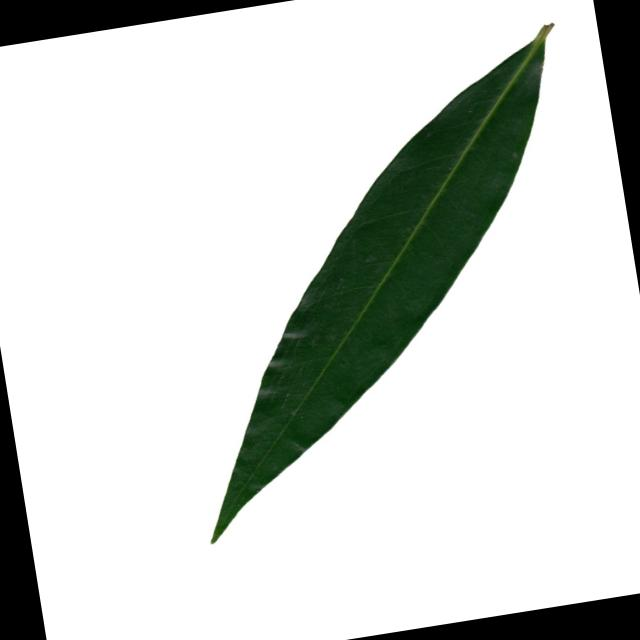Medicinal-Rose Apple: (140, 19, 626, 558)
